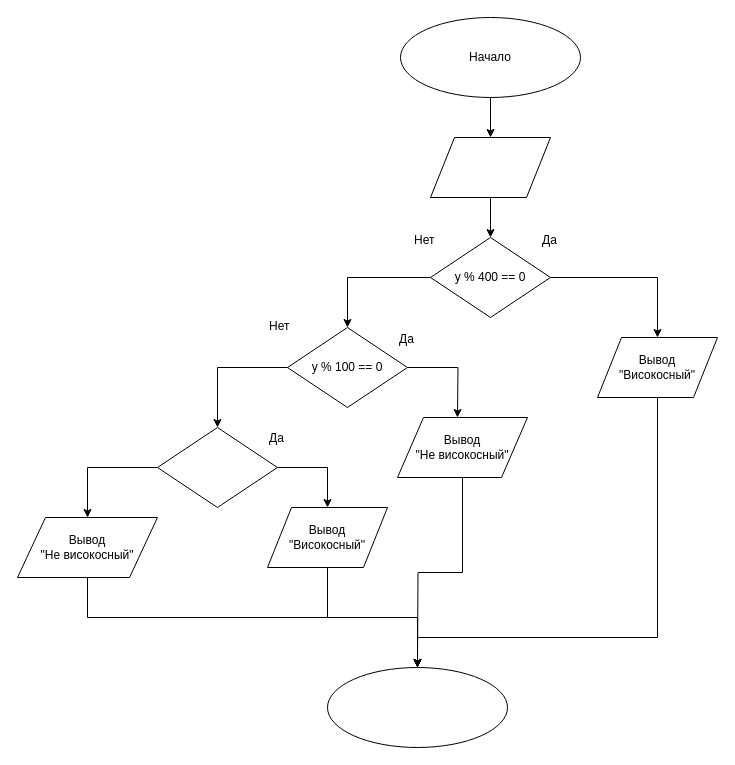
The diagram is 735 pixels wide and 765 high, and some of its shapes have lost their labels. The shapes that lost their labels are listed below. From the top down, each one's centre as x and y in pixels, then its label:
(490,167): Ввод y
(217,467): y % 4 == 0
(417,707): Конец
